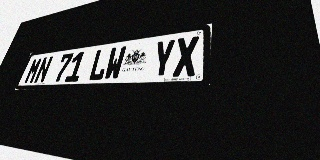1: (64, 51, 87, 82)
7: (52, 53, 74, 83)
L: (87, 48, 111, 81)
M: (23, 57, 43, 84)
N: (33, 56, 54, 84)
W: (103, 46, 127, 80)
X: (172, 36, 199, 77)
Y: (150, 39, 176, 78)
